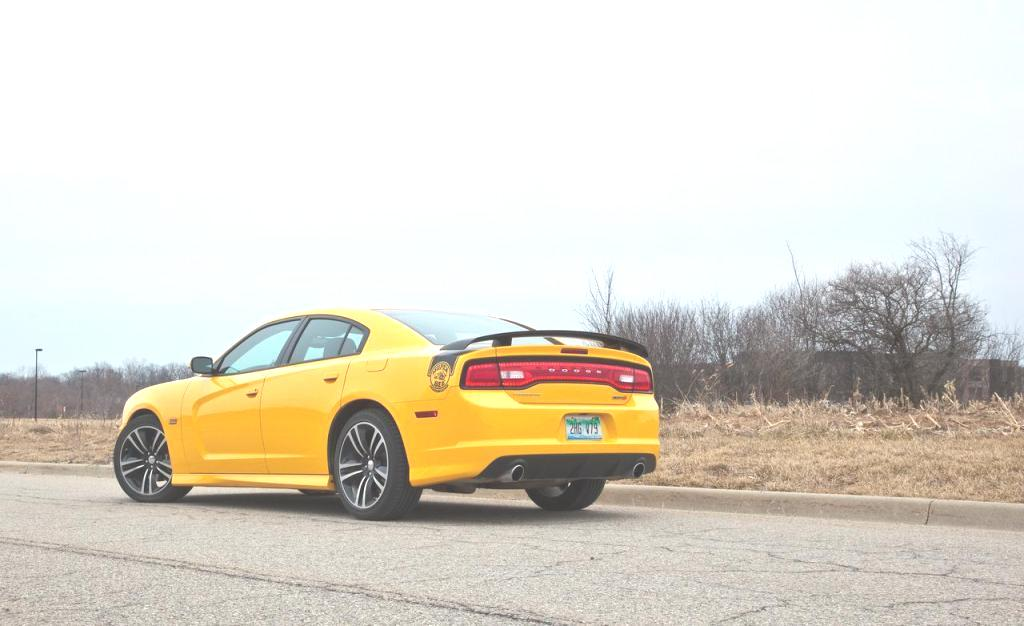dodge: (543, 363, 607, 383)
